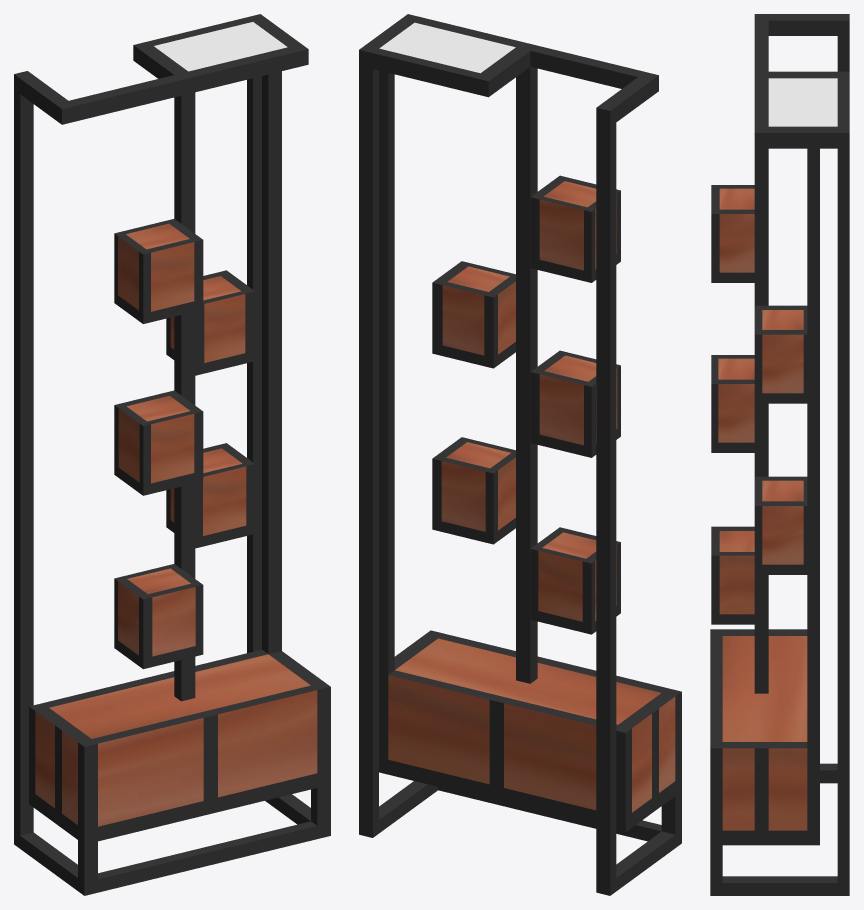
The model's file is repisaMatas.fbx.
The picture shows the model from 3 angles, left to right: view 1: azimuth 30°, elevation 25°; view 2: azimuth 150°, elevation 25°; view 3: azimuth 270°, elevation 25°; orthographic projection. The views are drawn at different scales.
Parts seen in each view (by area): view 1: Cube; view 2: Cube; view 3: Cube.
Boxes of the visible parts, left/top/right/bottom form: Cube: left=14, top=14, right=330, bottom=895; Cube: left=359, top=14, right=681, bottom=895; Cube: left=710, top=14, right=849, bottom=895.
Size of the model in its own units: 74.81 by 223 by 37.
Materials: 3 (1 with a texture image).
